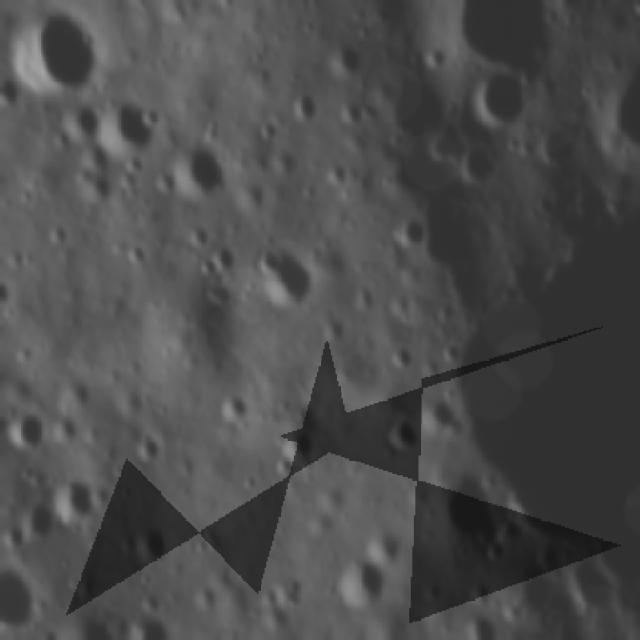crater: (3, 0, 114, 106), (454, 0, 566, 82), (419, 462, 501, 566), (244, 240, 325, 323), (92, 91, 163, 171), (167, 138, 238, 214), (465, 63, 540, 131), (326, 554, 388, 617), (0, 558, 46, 640), (50, 472, 104, 538), (361, 514, 407, 577), (370, 412, 424, 462), (453, 146, 507, 192), (55, 94, 102, 144), (7, 408, 53, 458), (272, 423, 318, 472), (386, 216, 432, 258), (126, 606, 182, 640), (281, 83, 322, 129), (422, 397, 468, 438), (212, 388, 252, 430), (201, 283, 242, 320), (130, 426, 164, 469), (379, 342, 419, 378), (452, 612, 501, 640), (431, 334, 466, 369), (0, 74, 23, 118), (193, 254, 222, 283), (121, 243, 147, 274), (44, 227, 71, 256), (119, 632, 216, 640), (186, 223, 211, 251), (0, 275, 12, 310)
